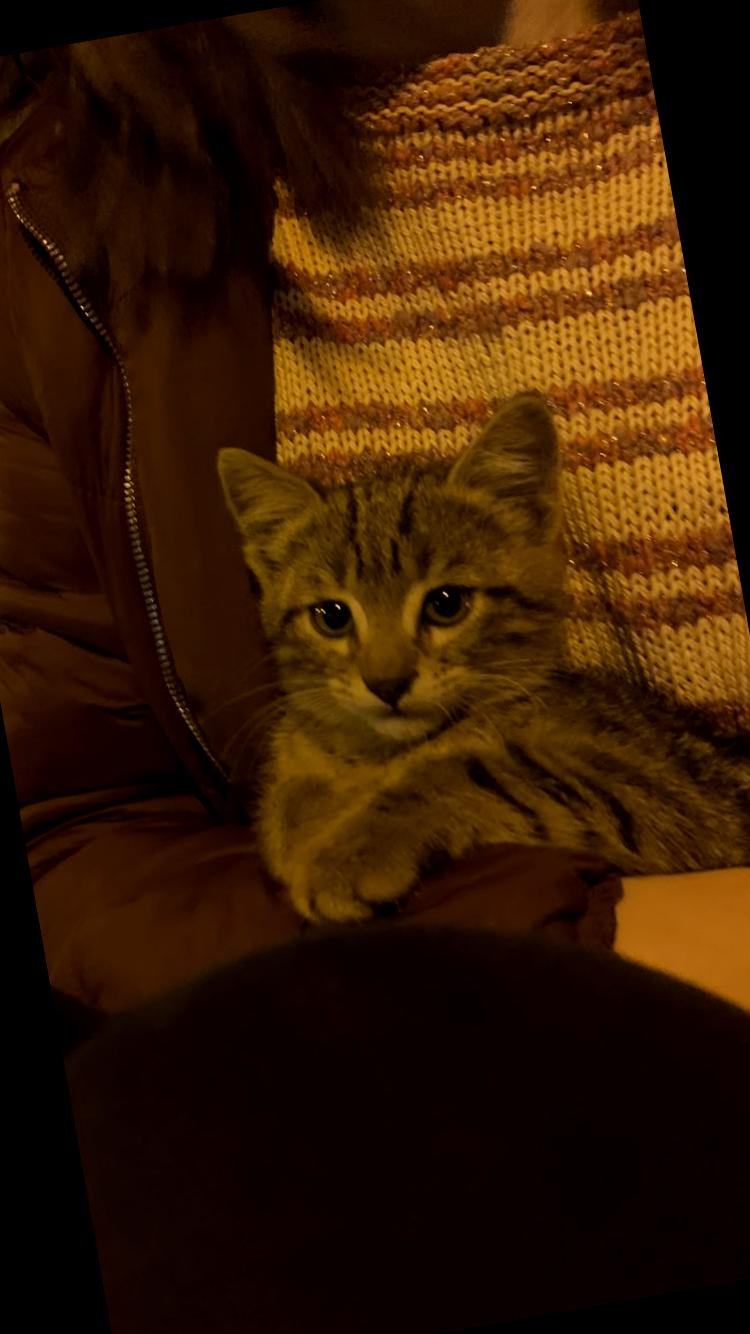macka: (191, 361, 750, 939)
